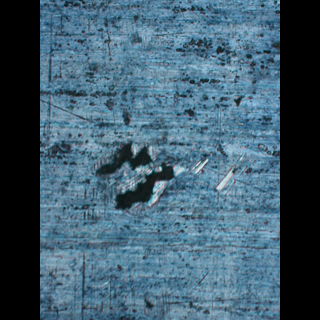d: (96, 134, 218, 215)
